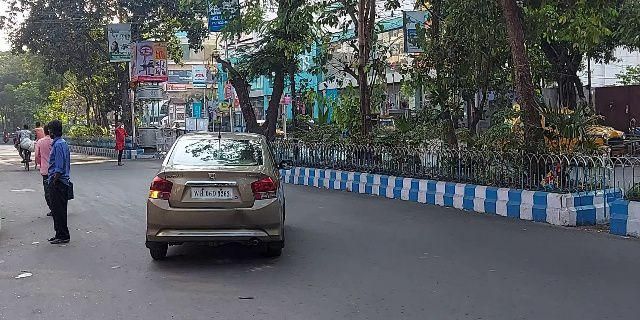Car: (139, 125, 293, 273)
Cycle: (13, 122, 35, 172)
